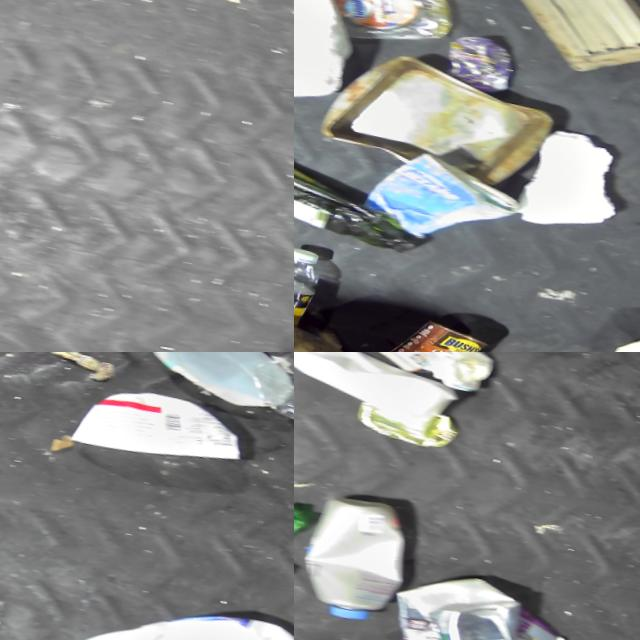can: (349, 396, 465, 460), (366, 308, 505, 352)
milk_jug: (43, 575, 294, 640), (125, 352, 294, 427)
non_white_jug: (294, 352, 472, 452)
plastic_bottle: (294, 236, 346, 341)
